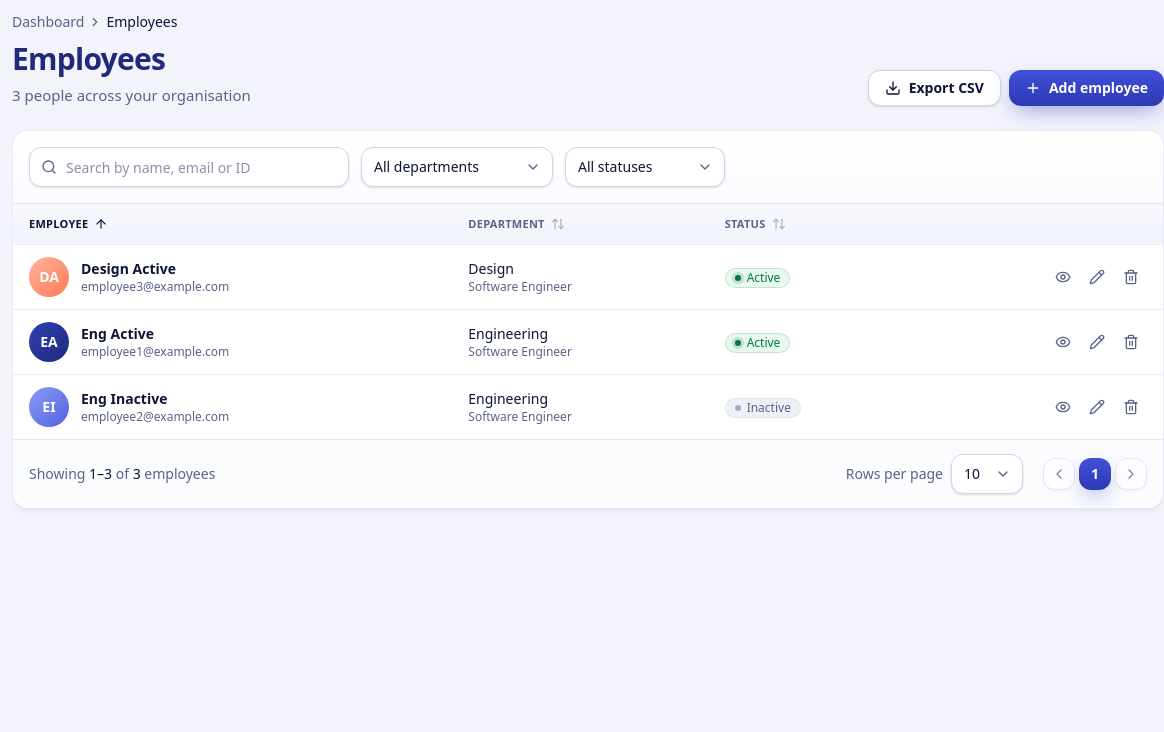
<EmployeeDirectory> › combines department, status and search filters
This screenshot has width=1164, height=732.
Select "Engineering" in the dropdown named "Filter by department" at {"x": 457, "y": 167}, box x1=361 y1=147 x2=553 y2=187
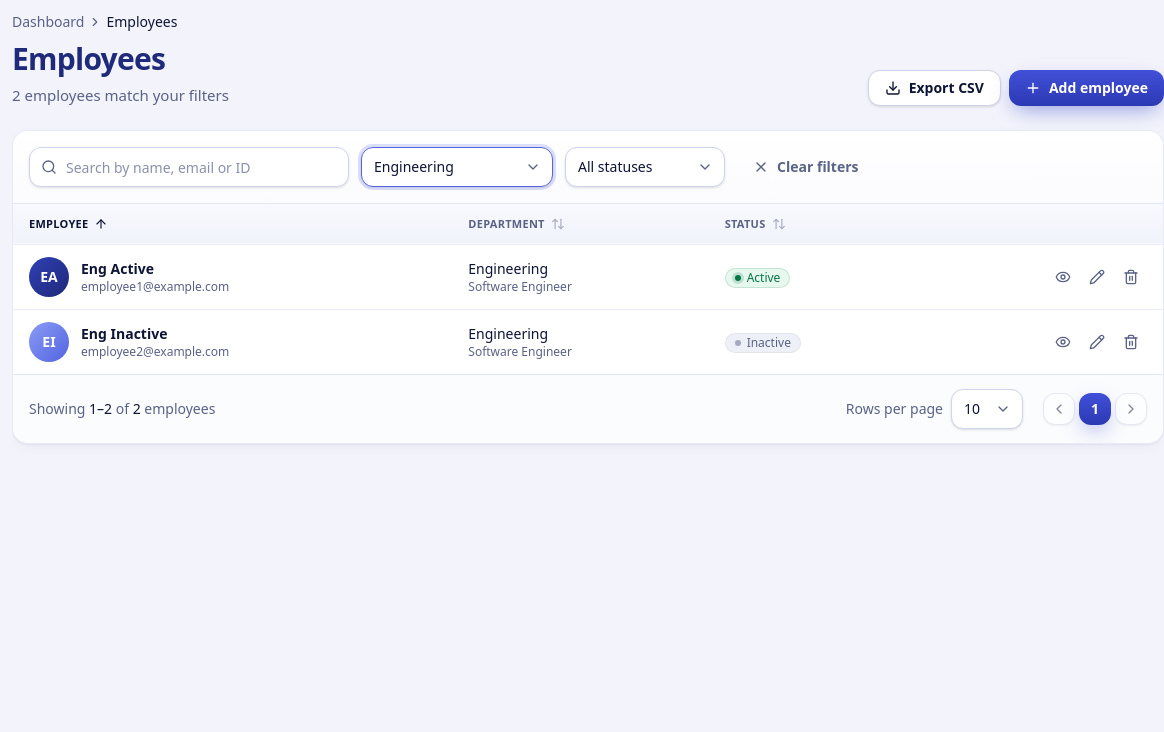
Now the number of rows with test id "employee-row" is 2, box x1=13 y1=244 x2=1163 y2=309; x1=13 y1=309 x2=1163 y2=374
Select "Active" in the dropdown named "Filter by status" at {"x": 645, "y": 167}, box x1=565 y1=147 x2=725 y2=187
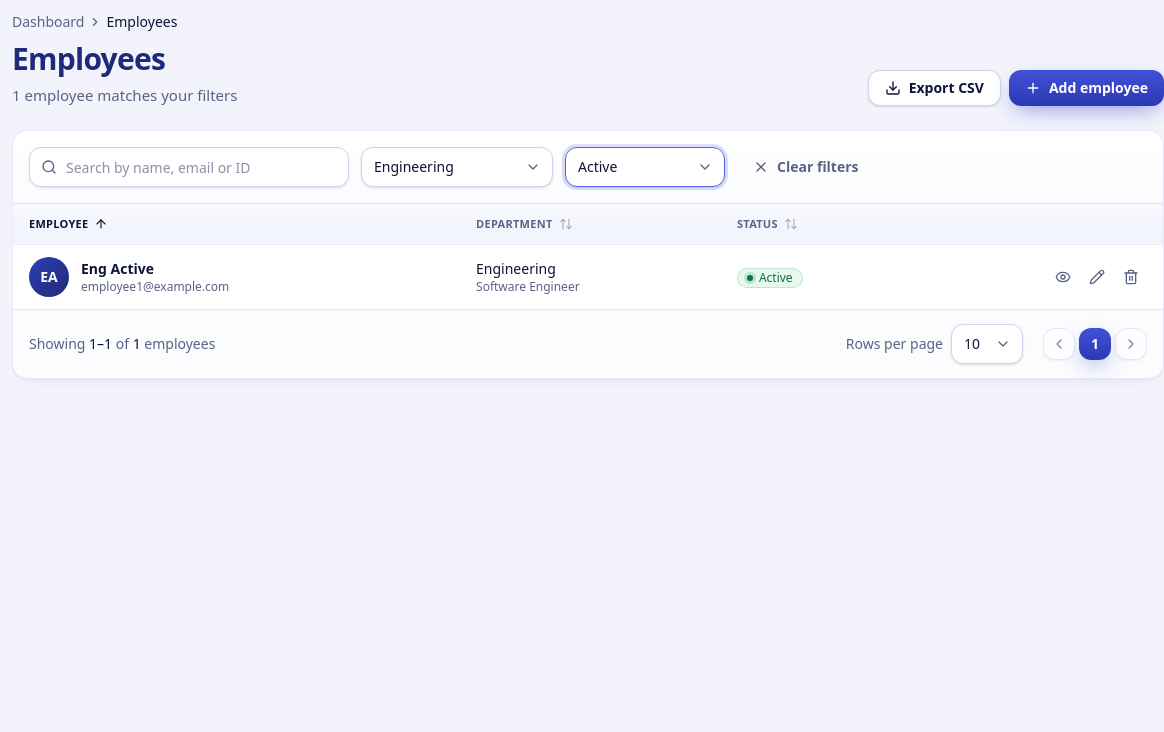
Expected: the link "Eng Active" is shown, x1=81 y1=258 x2=154 y2=278
Now the number of rows with test id "employee-row" is 1, box x1=13 y1=244 x2=1163 y2=308
